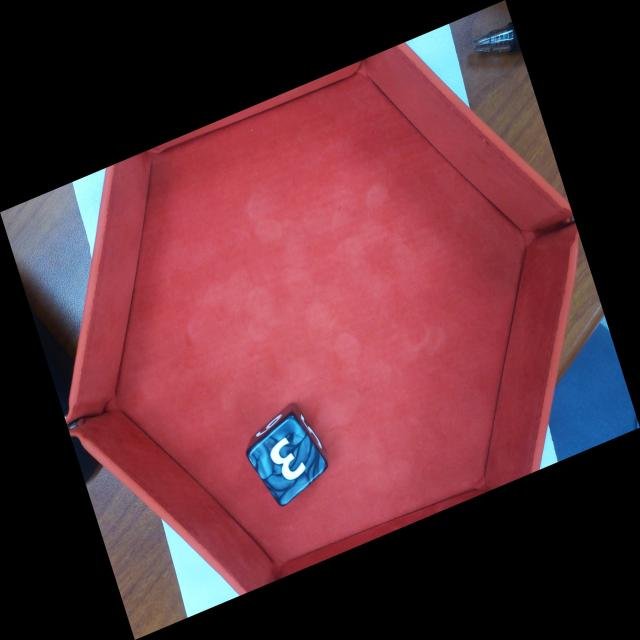dice: (249, 420, 325, 501)
